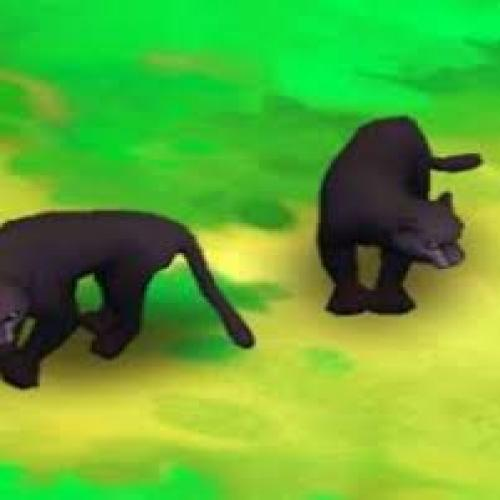panther-endangered: (0, 210, 255, 391), (309, 112, 482, 316)
